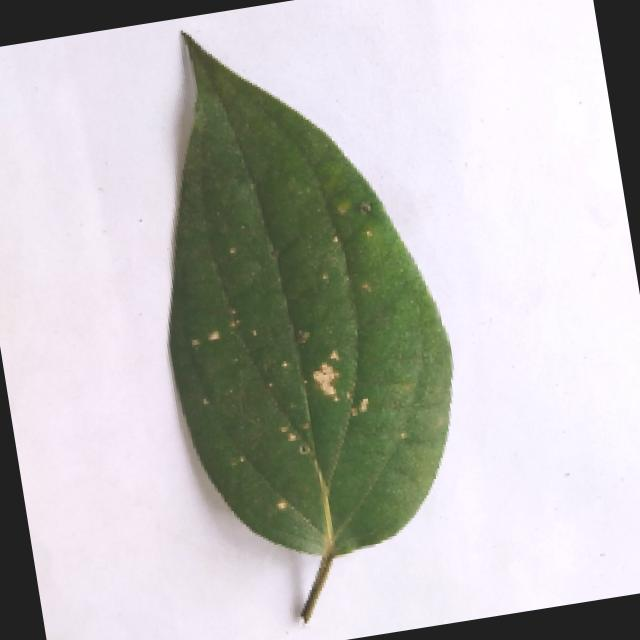pollu-disease: (119, 0, 483, 613)
